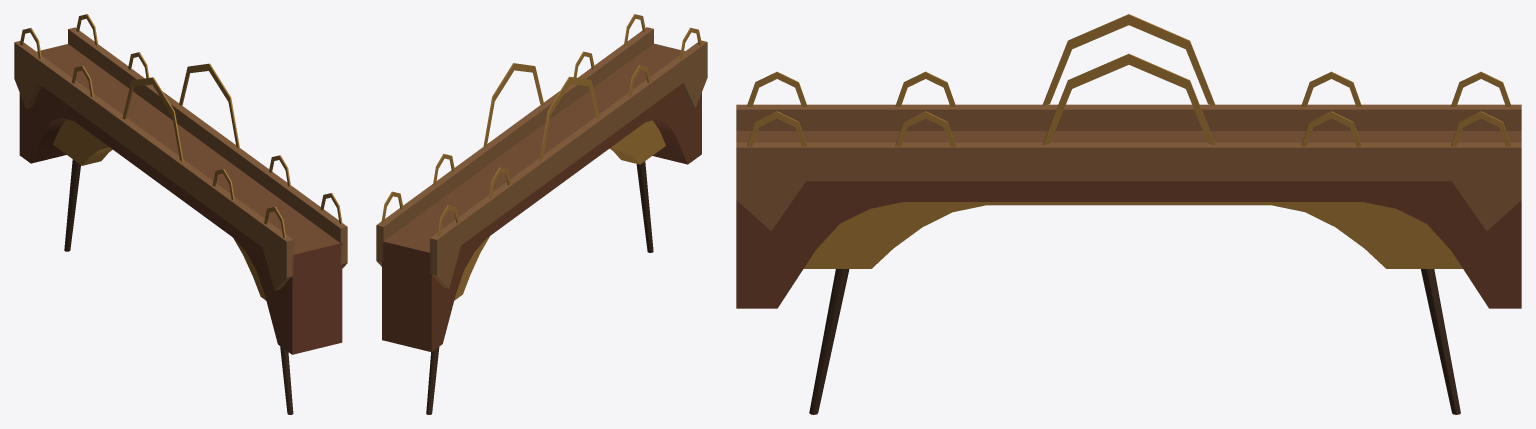
Rendered from Background_Bridges.fbx.
The picture shows the model from 3 angles, left to right: view 1: azimuth 30°, elevation 25°; view 2: azimuth 150°, elevation 25°; view 3: azimuth 270°, elevation 25°; orthographic projection. The views are drawn at different scales.
Visible parts, largest first — view 1: Background_Bridges; view 2: Background_Bridges; view 3: Background_Bridges.
Part boxes in pixels (left/top/right/bottom): Background_Bridges: left=14, top=14, right=347, bottom=414; Background_Bridges: left=376, top=14, right=707, bottom=414; Background_Bridges: left=736, top=14, right=1521, bottom=414.
Size of the model in its own units: 2.59 by 10.65 by 20.
